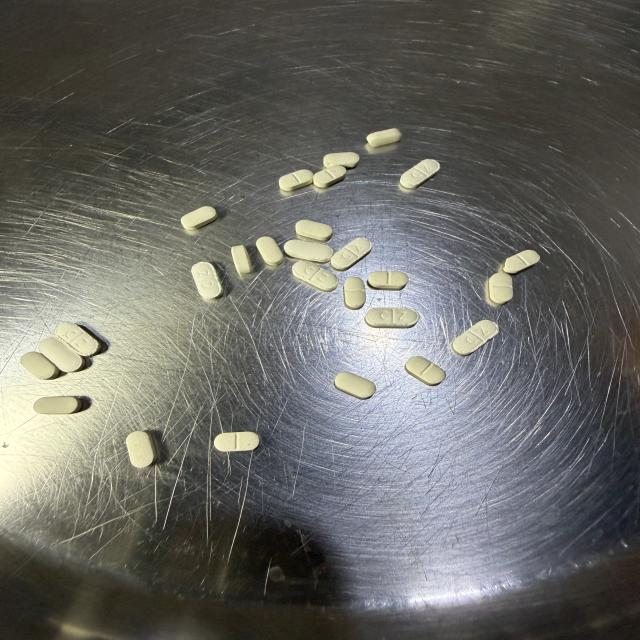pill: (452, 320, 499, 355), (39, 338, 85, 372), (55, 323, 100, 356), (292, 261, 339, 292), (331, 237, 372, 271), (405, 356, 445, 385), (284, 240, 333, 263), (126, 431, 157, 467), (192, 262, 222, 299), (335, 372, 376, 399), (400, 160, 439, 188), (365, 308, 419, 328), (21, 352, 59, 379), (214, 432, 259, 451), (181, 207, 217, 230), (504, 250, 540, 273), (488, 272, 513, 304), (34, 397, 81, 414), (296, 220, 332, 242), (256, 237, 283, 266), (368, 271, 408, 290), (314, 165, 346, 187), (344, 277, 366, 309), (279, 170, 313, 190), (367, 129, 401, 147), (232, 245, 252, 275), (324, 152, 359, 168)
